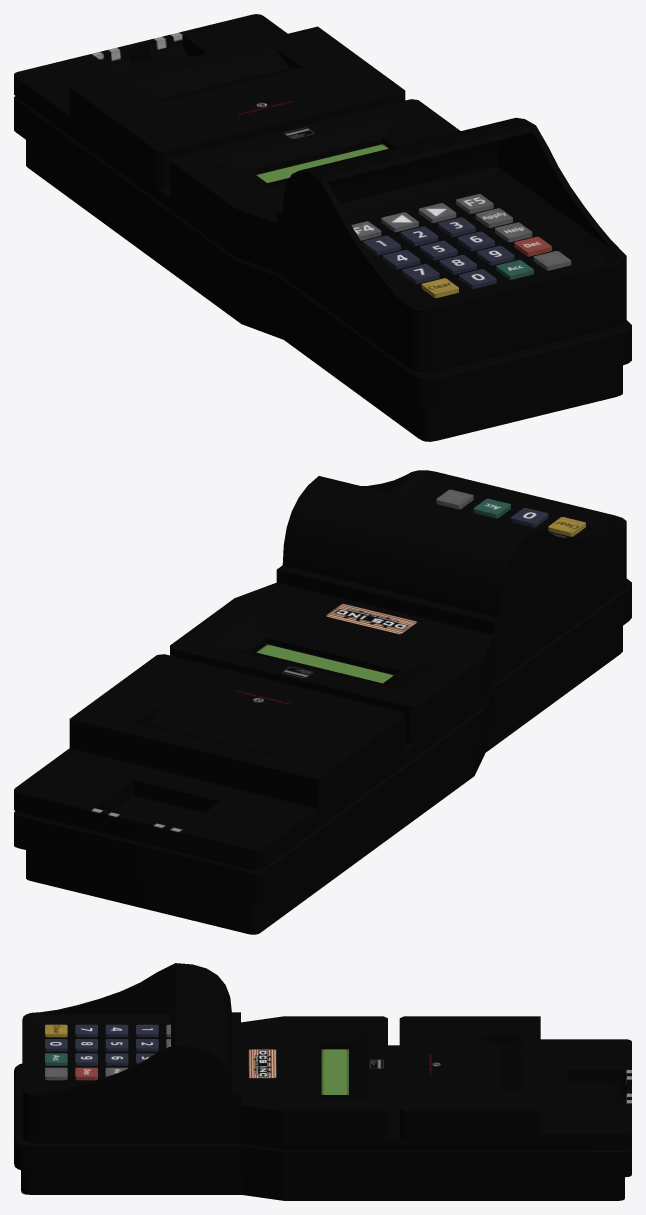
Rendered from payment_terminal.glb.
3 renders of one model, top to bottom at view 1: azimuth 30°, elevation 25°; view 2: azimuth 150°, elevation 25°; view 3: azimuth 270°, elevation 25°, orthographic. The views are drawn at different scales.
Parts seen in each view (by area): view 1: lp, Box002; view 2: lp, Box002; view 3: lp, Box002.
Boxes of the visible parts, <box> form: lp: <box>14,14,631,441</box>; Box002: <box>351,194,571,298</box>; lp: <box>14,470,631,934</box>; Box002: <box>436,489,585,537</box>; lp: <box>14,963,631,1200</box>; Box002: <box>45,1024,170,1080</box>.
Size of the model in its own units: 0.6477 by 0.4851 by 1.79.
Materials: 1 (1 with a texture image).
